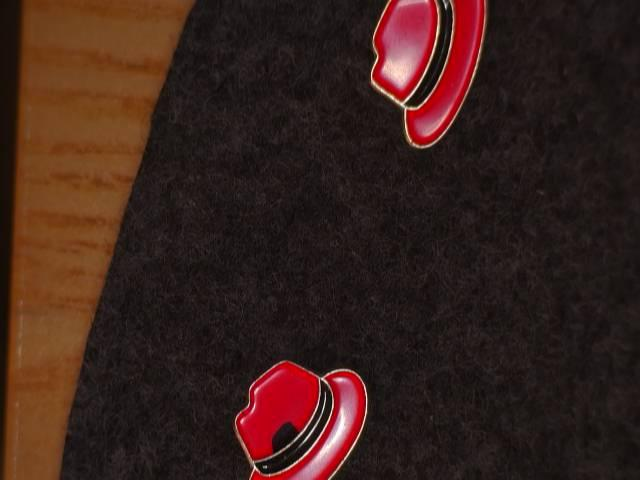Red-Hat: (332, 0, 510, 179), (204, 352, 383, 480)
Scratch: (260, 412, 315, 462)
